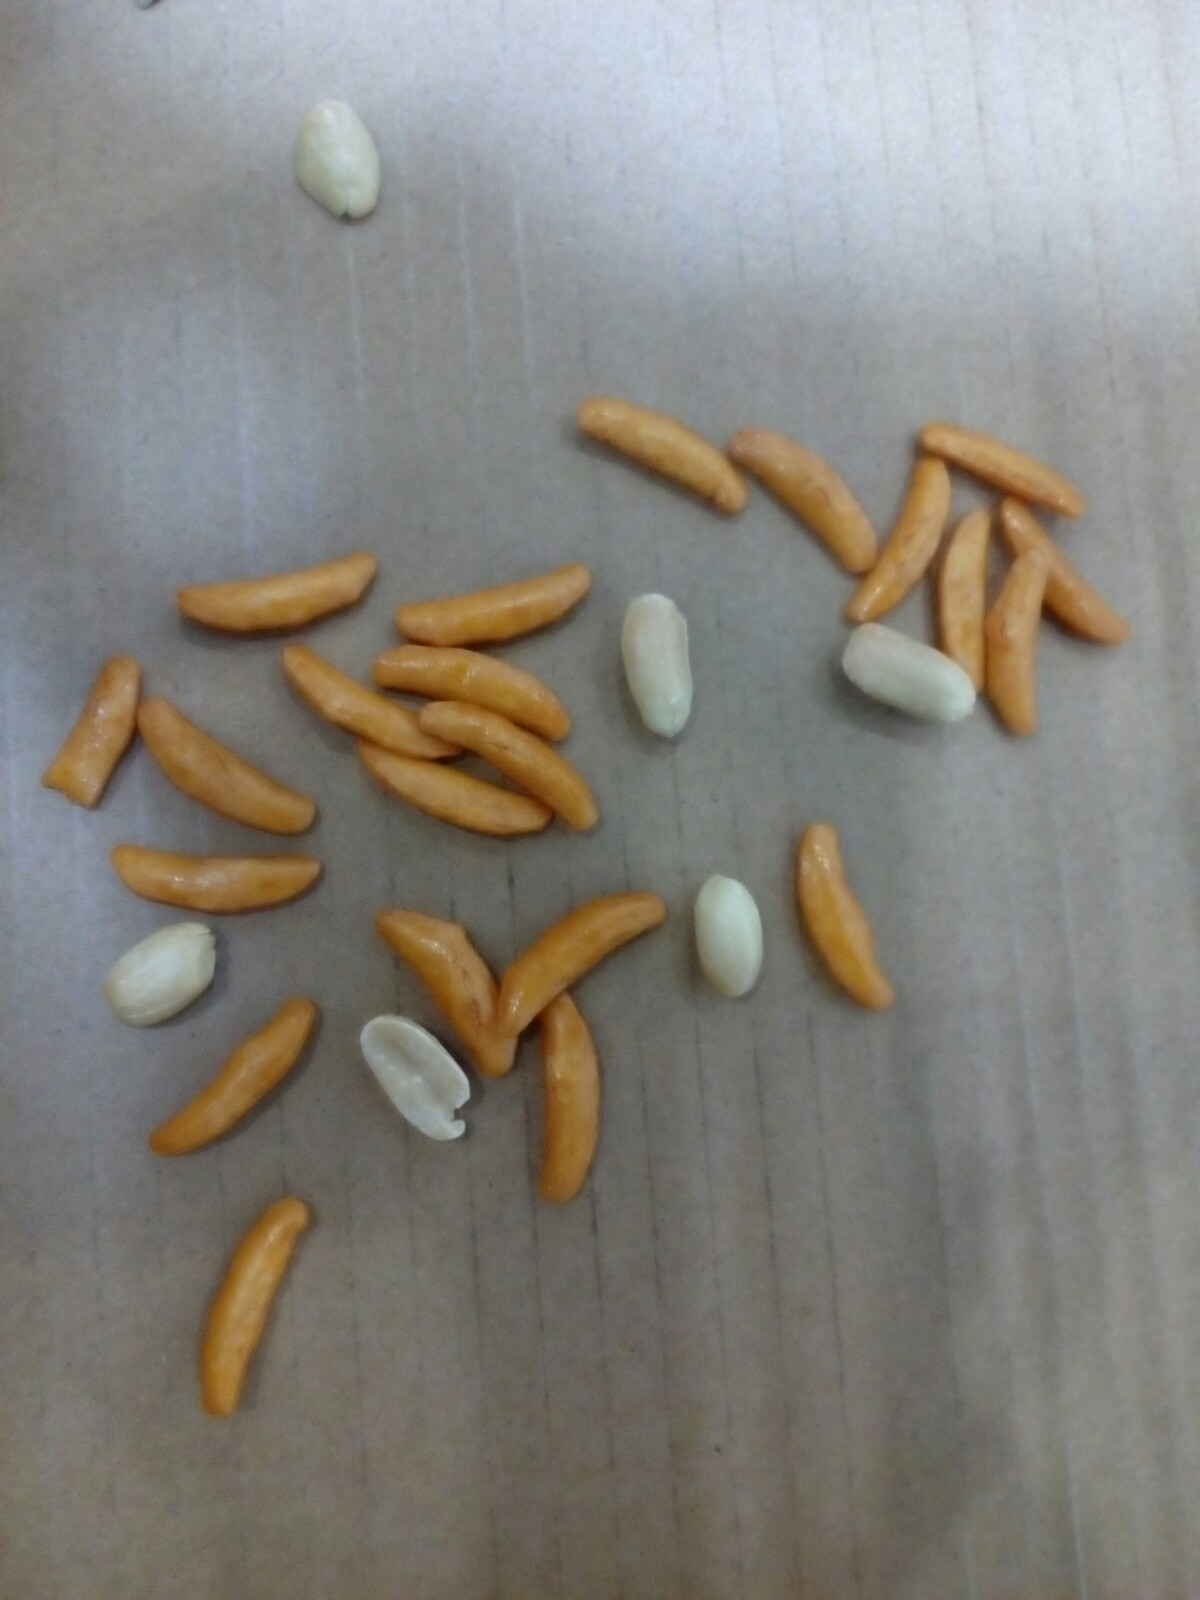peanut: (816, 603, 1001, 736), (354, 1004, 494, 1155), (95, 908, 241, 1042), (608, 574, 708, 763), (684, 855, 788, 1019), (286, 82, 386, 223)
